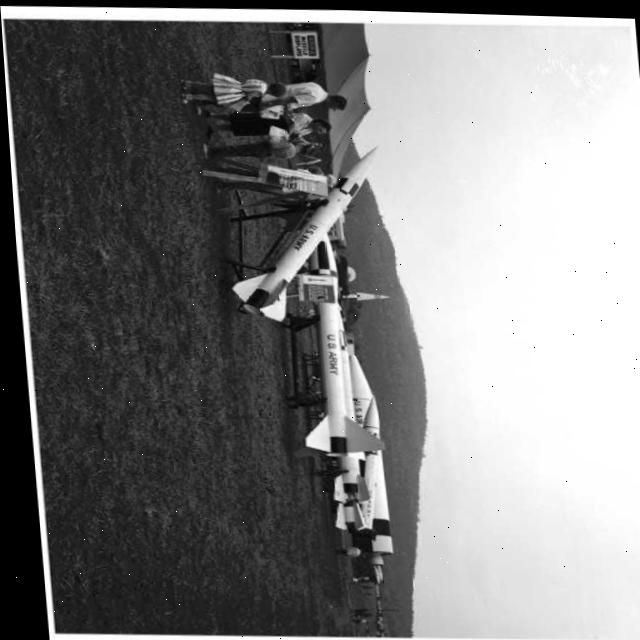missile: (207, 134, 392, 324), (279, 238, 379, 457)
